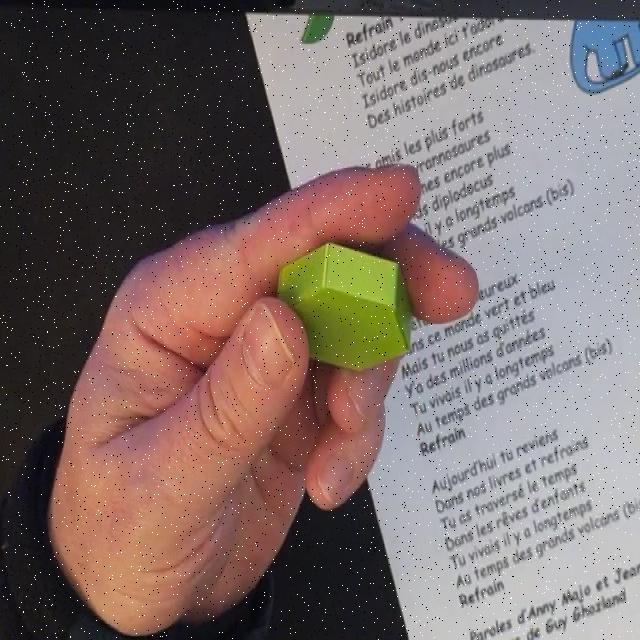hexagon: (275, 238, 415, 374)
